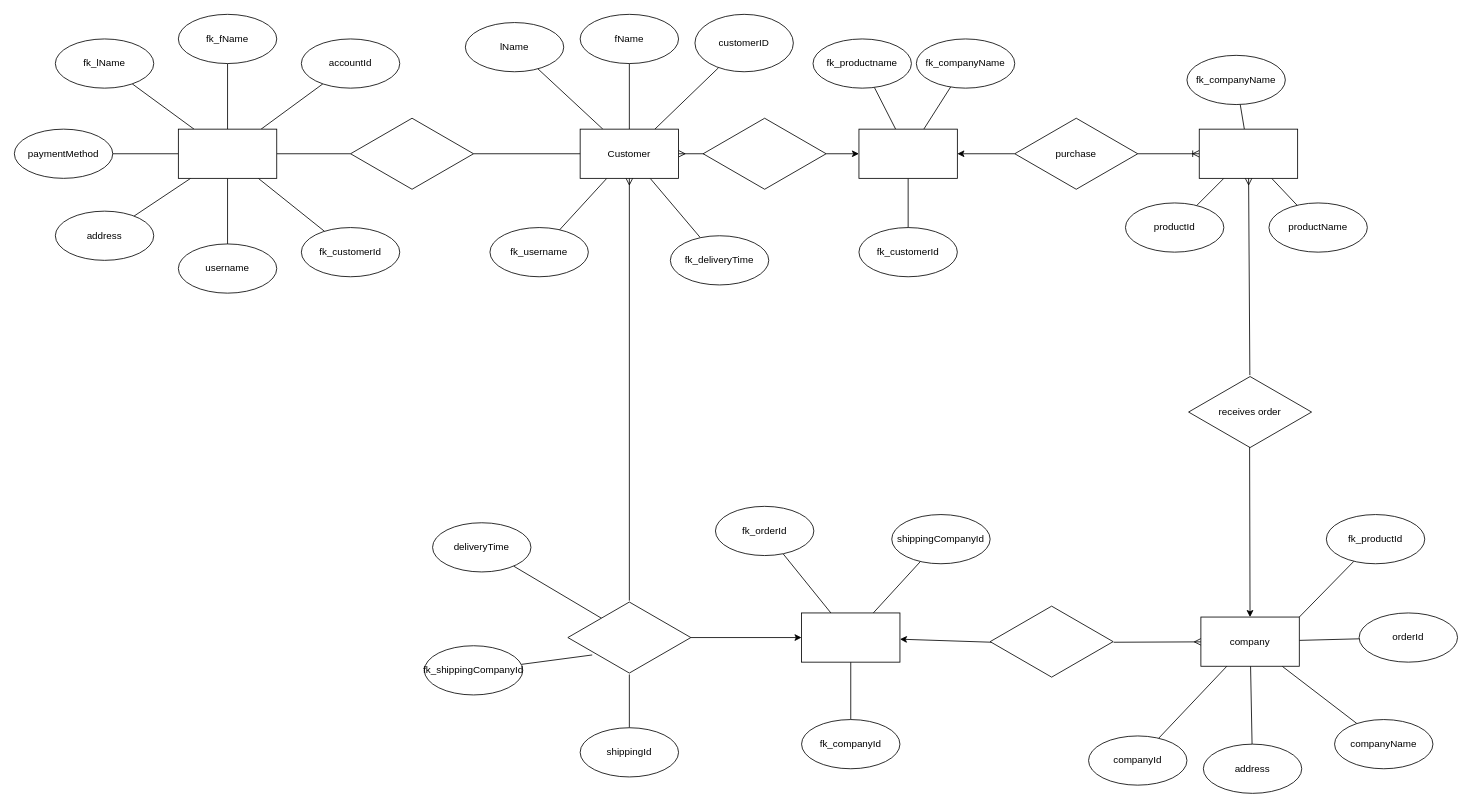
The diagram is 1472 pixels wide and 808 high, and some of its shapes have lost their labels. The box of each missing label's shape, as (x1, y1, x2, y2) in pixels:
Account: (178, 128, 277, 178)
created by: (350, 116, 474, 191)
Famazon: (858, 128, 957, 178)
passes order: (989, 604, 1113, 679)
products: (1198, 128, 1298, 178)
shipping: (567, 600, 691, 674)
ShippingCompany: (801, 612, 900, 662)
visits: (702, 116, 826, 191)
